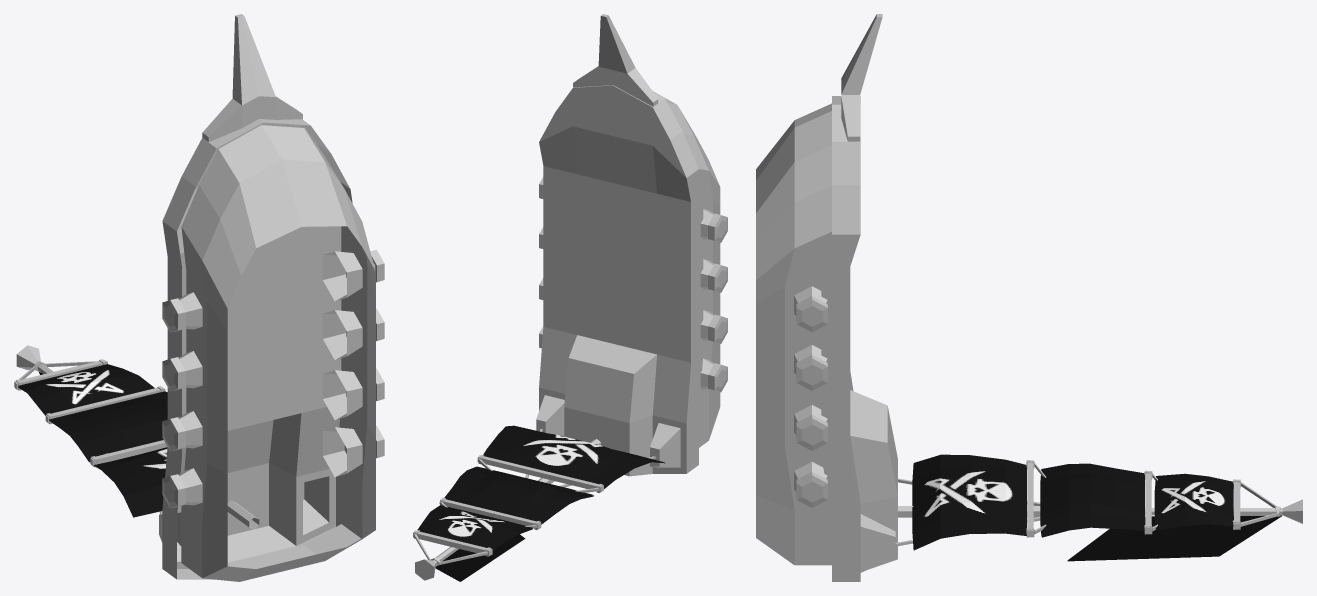
File: pirate_basic_my_6.fbx
3 views of the same model, side by side, from view 1: azimuth 30°, elevation 25°; view 2: azimuth 150°, elevation 25°; view 3: azimuth 270°, elevation 25° (orthographic). The views are drawn at different scales.
Parts seen in each view (by area): view 1: Cube.187; view 2: Cube.187; view 3: Cube.187.
Boxes of the visible parts, box(x1,y1,x2,y2) form: Cube.187: box(14, 14, 384, 581); Cube.187: box(413, 14, 727, 581); Cube.187: box(756, 14, 1302, 581).
Size of the model in its own units: 214 by 538 by 489.
